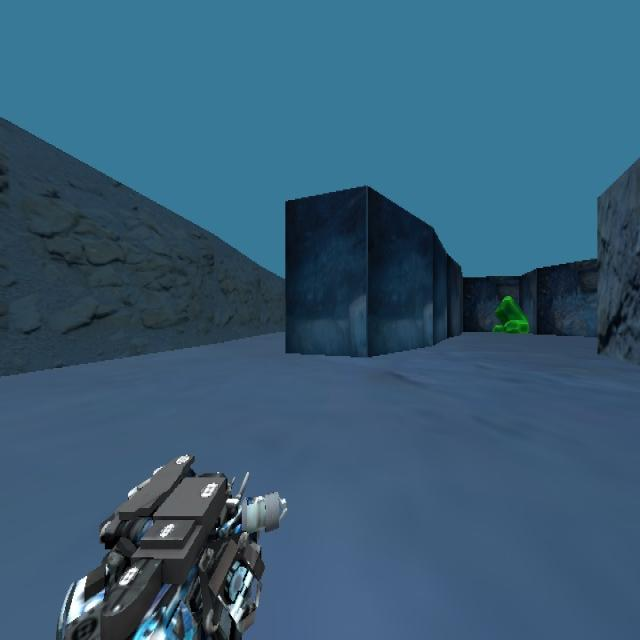Diamon: (491, 294, 529, 334)
